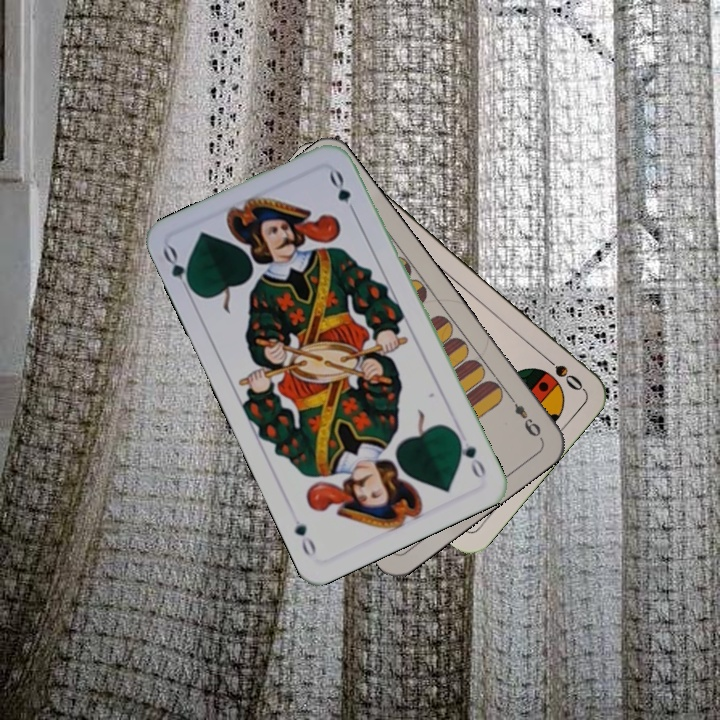E9: (504, 390, 544, 440)
GO: (158, 242, 198, 299), (451, 429, 489, 481)
SO: (537, 349, 586, 394)
